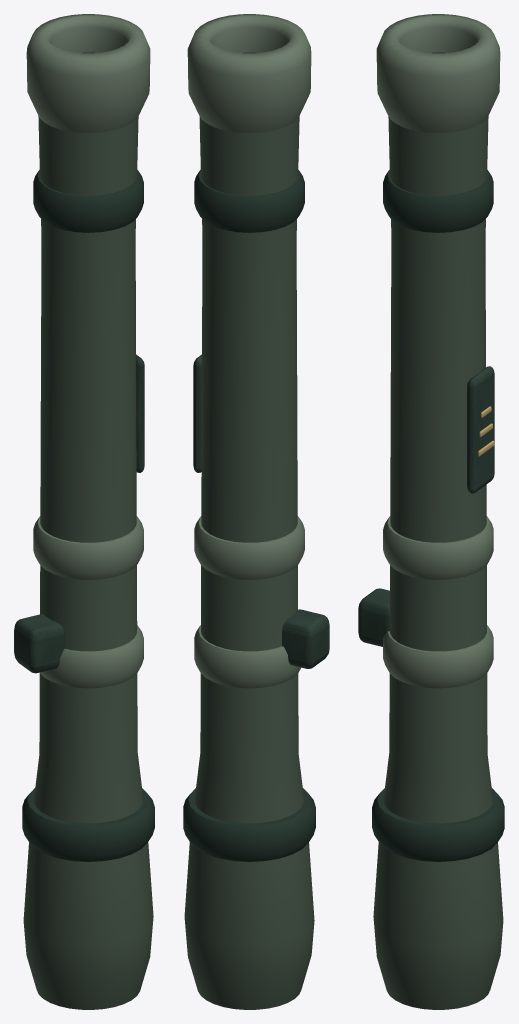
Rendered from mortar_tube.glb.
The picture shows the model from 3 angles, left to right: view 1: azimuth 30°, elevation 25°; view 2: azimuth 150°, elevation 25°; view 3: azimuth 330°, elevation 25°; orthographic projection.
Visible parts, largest first — view 1: Mortar Tube.001; view 2: Mortar Tube.001; view 3: Mortar Tube.001.
Boxes of the visible parts, box(x1,y1,x2,y2) form: Mortar Tube.001: box(14, 14, 154, 1009); Mortar Tube.001: box(183, 14, 329, 1009); Mortar Tube.001: box(358, 14, 504, 1009).
Bounding box in the file's own units: 0.1773 × 1.27 × 0.1603.
Materials: 5 (5 with a texture image).
